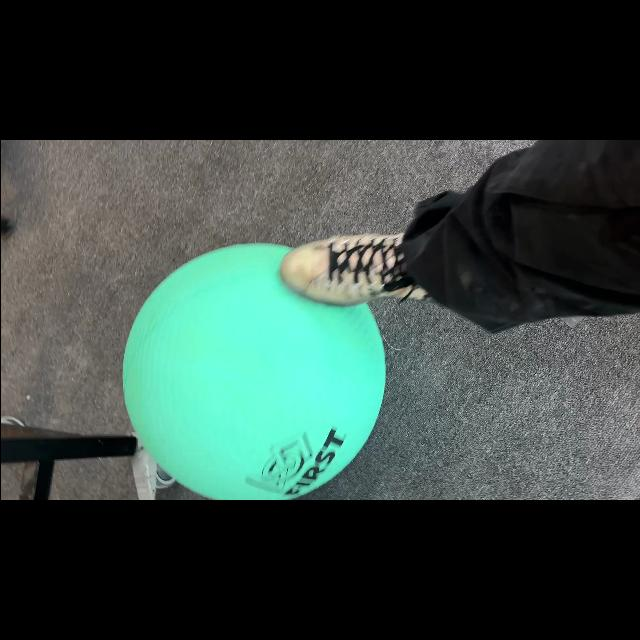ALGAE: (120, 242, 386, 500)
